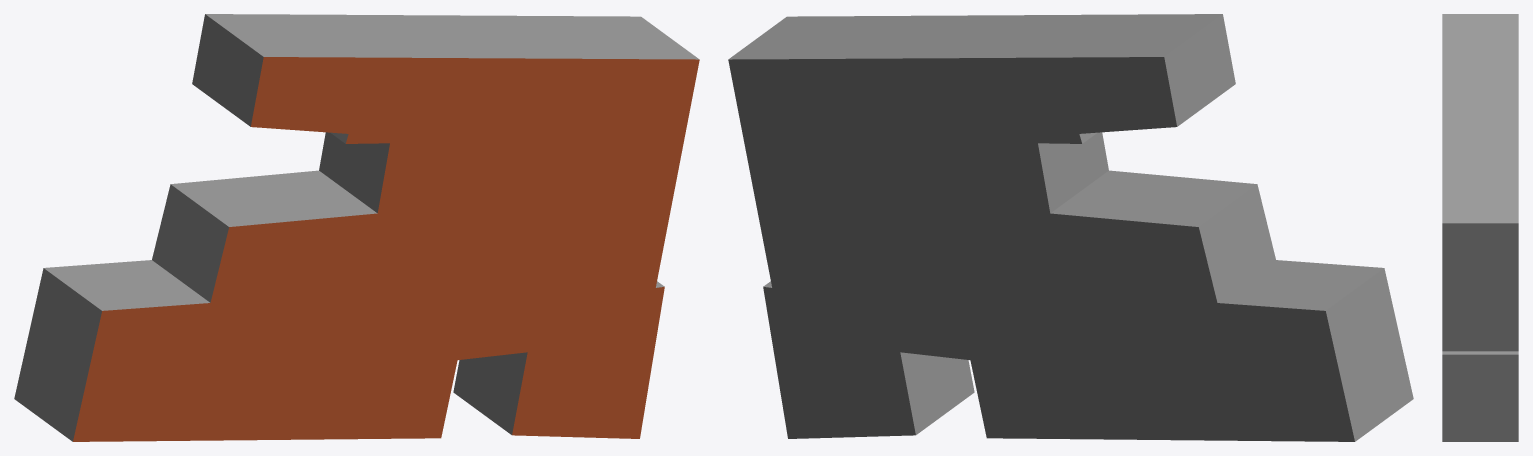
The model's file is construction_6704_assumed_A_Casa_h6m.obj.
The picture shows the model from 3 angles, left to right: view 1: azimuth 30°, elevation 25°; view 2: azimuth 150°, elevation 25°; view 3: azimuth 270°, elevation 25°; orthographic projection. The views are drawn at different scales.
Parts seen in each view (by area): view 1: construction_6704_assumed_A_Casa; view 2: construction_6704_assumed_A_Casa; view 3: construction_6704_assumed_A_Casa.
Boxes of the visible parts, x1=… form: construction_6704_assumed_A_Casa: x1=14, y1=14, x2=699, y2=441; construction_6704_assumed_A_Casa: x1=728, y1=14, x2=1413, y2=441; construction_6704_assumed_A_Casa: x1=1442, y1=14, x2=1518, y2=441.
Size of the model in its own units: 37 by 26.73 by 6.
